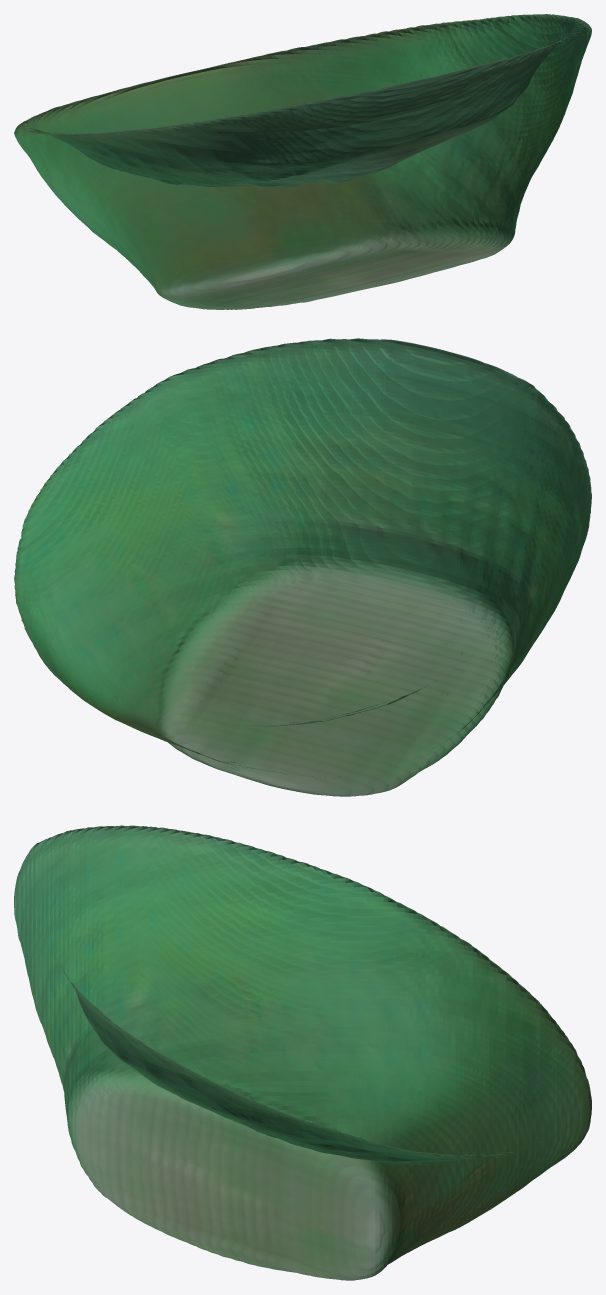
The picture shows the model from 3 angles, top to bottom: view 1: azimuth 30°, elevation 25°; view 2: azimuth 150°, elevation 25°; view 3: azimuth 270°, elevation 25°; orthographic projection. The views are drawn at different scales.
Visible parts, largest first — view 1: geometry_0; view 2: geometry_0; view 3: geometry_0.
Boxes of the visible parts, bbox=[...] form: geometry_0: bbox=[14, 14, 591, 309]; geometry_0: bbox=[14, 338, 591, 796]; geometry_0: bbox=[14, 825, 591, 1280].
Bounding box in the file's own units: 1.6 × 0.9507 × 1.45.
